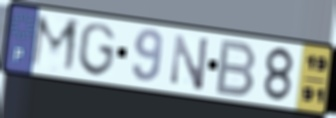8: (261, 45, 298, 104)
9: (130, 27, 165, 87)
B: (212, 38, 259, 99)
G: (76, 21, 118, 79)
M: (27, 11, 82, 77)
N: (169, 32, 212, 93)
